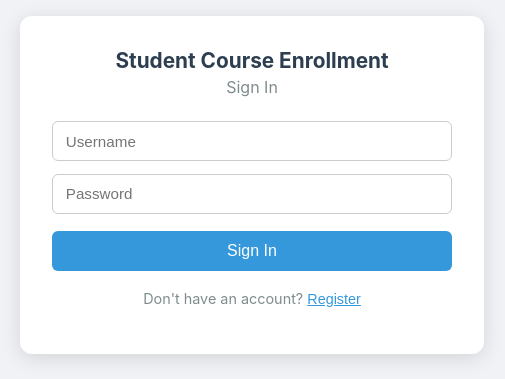
Test: Login component › switches to the register form
Click the button "Register" at [334, 299], box [307,291,361,307]
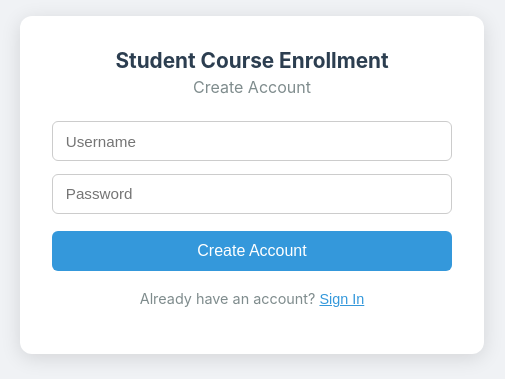
Expected: the heading "Create Account" is shown, [193,77,311,97]
